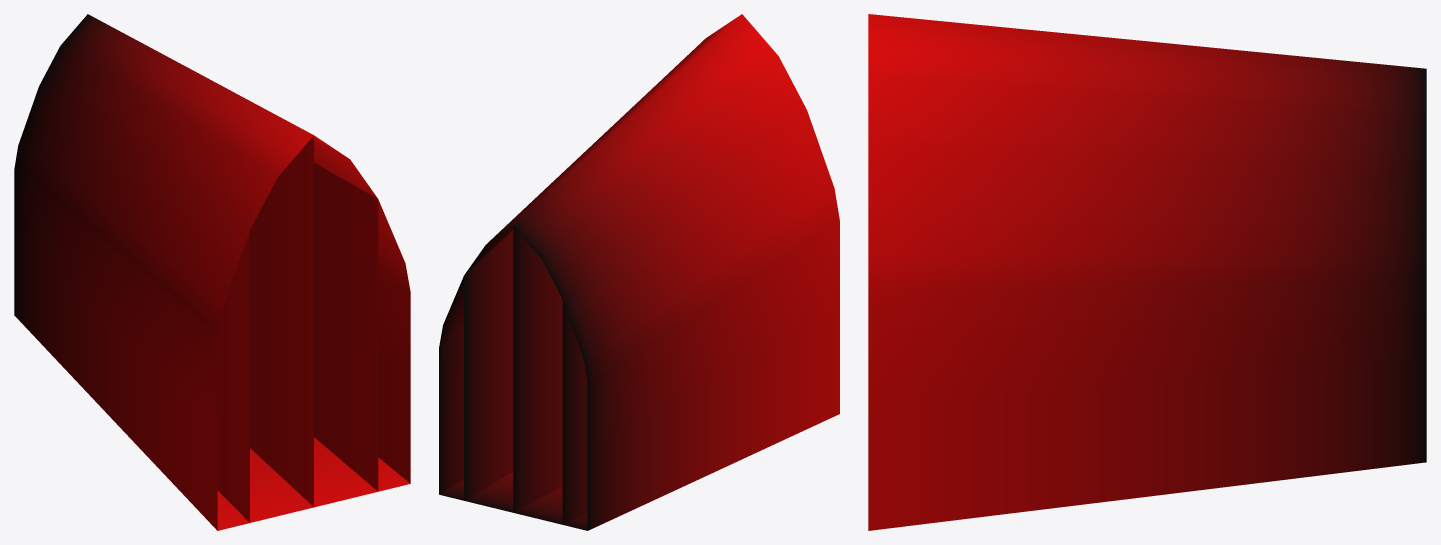
The picture shows the model from 3 angles, left to right: view 1: azimuth 30°, elevation 25°; view 2: azimuth 150°, elevation 25°; view 3: azimuth 270°, elevation 25°; orthographic projection. The views are drawn at different scales.
Parts seen in each view (by area): view 1: G:\FFXIV-MapTools\exports\w1f3\bg\ffxiv\wil_w1\fld\w1f3\bgpa; view 2: G:\FFXIV-MapTools\exports\w1f3\bg\ffxiv\wil_w1\fld\w1f3\bgpa; view 3: G:\FFXIV-MapTools\exports\w1f3\bg\ffxiv\wil_w1\fld\w1f3\bgpa.
Part boxes in pixels (<box>): G:\FFXIV-MapTools\exports\w1f3\bg\ffxiv\wil_w1\fld\w1f3\bgpa: <box>14,14,410,530</box>; G:\FFXIV-MapTools\exports\w1f3\bg\ffxiv\wil_w1\fld\w1f3\bgpa: <box>439,14,839,530</box>; G:\FFXIV-MapTools\exports\w1f3\bg\ffxiv\wil_w1\fld\w1f3\bgpa: <box>868,14,1426,530</box>.
Bounding box in the file's own units: 3.94 × 7.26 × 8.
